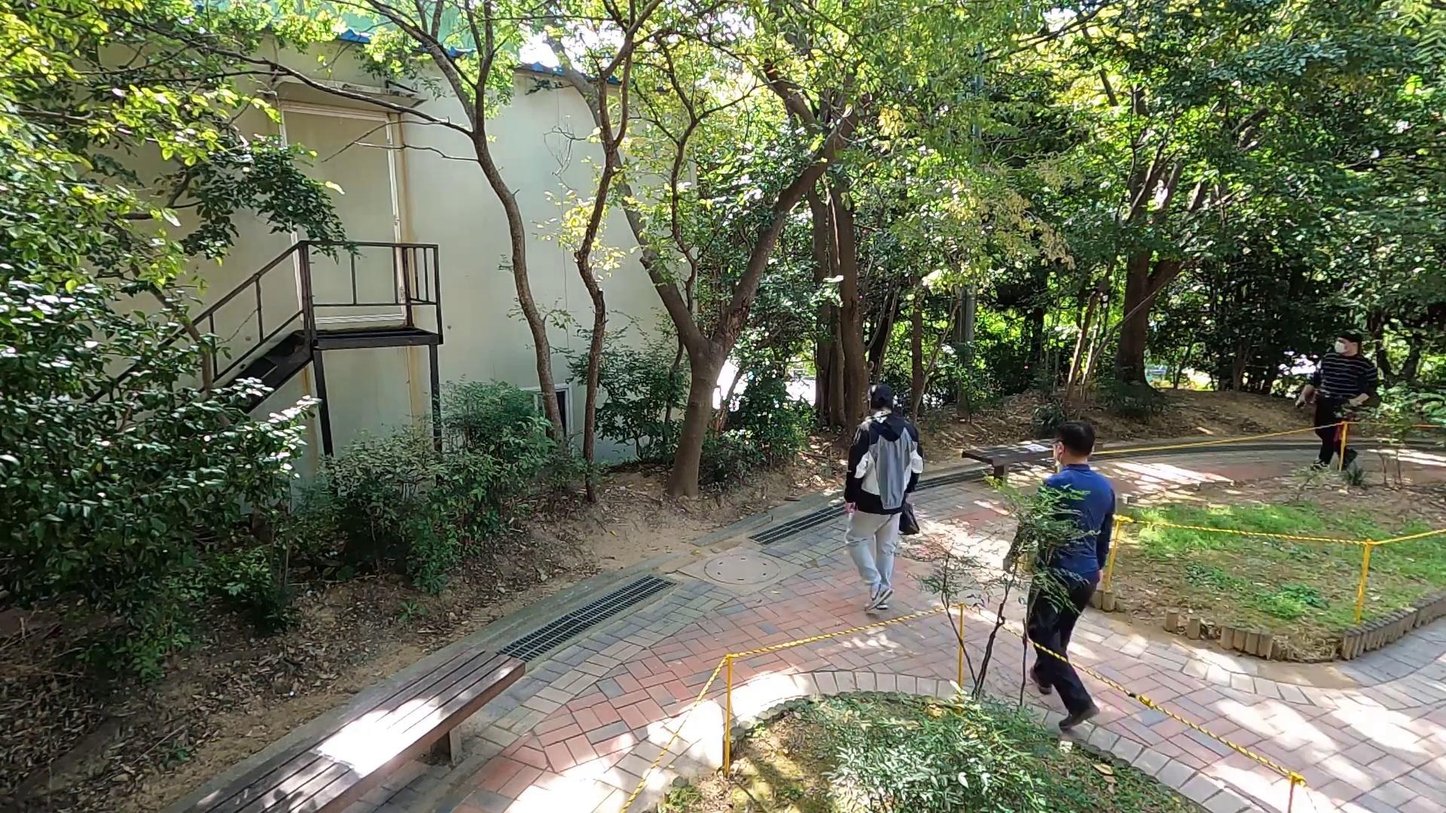person: (1003, 416, 1117, 733), (839, 378, 927, 621), (1291, 321, 1380, 484)
trash: (895, 497, 927, 539)
